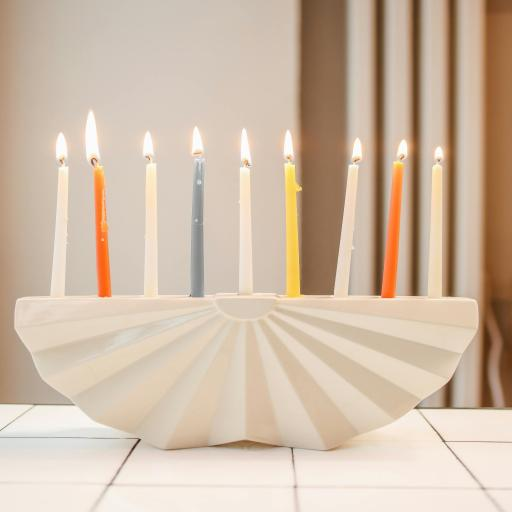candlelight: (45, 128, 80, 292), (84, 111, 112, 292), (330, 138, 360, 300), (378, 139, 407, 296), (283, 129, 305, 295), (238, 128, 255, 294), (142, 130, 159, 294), (426, 145, 444, 298), (190, 126, 206, 294)
